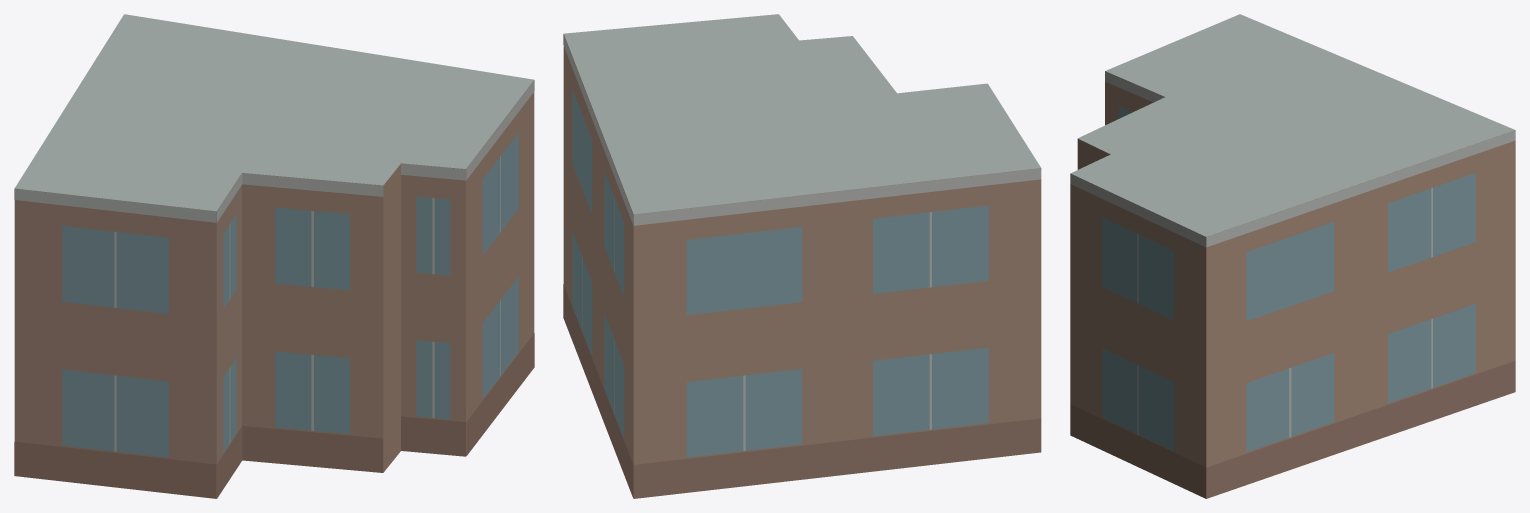
The model's file is survey-upis-32502845.glb.
3 views of the same model, side by side, from view 1: azimuth 30°, elevation 25°; view 2: azimuth 150°, elevation 25°; view 3: azimuth 270°, elevation 25° (orthographic). The views are drawn at different scales.
Visible parts, largest first — view 1: survey-upis-32502845.tmp; view 2: survey-upis-32502845.tmp; view 3: survey-upis-32502845.tmp.
Part boxes in pixels (x1,y1,x2,y2): survey-upis-32502845.tmp: (14,14,534,498); survey-upis-32502845.tmp: (563,14,1041,498); survey-upis-32502845.tmp: (1070,14,1515,498).
Bounding box in the file's own units: 11.14 × 6.1 × 9.41.
